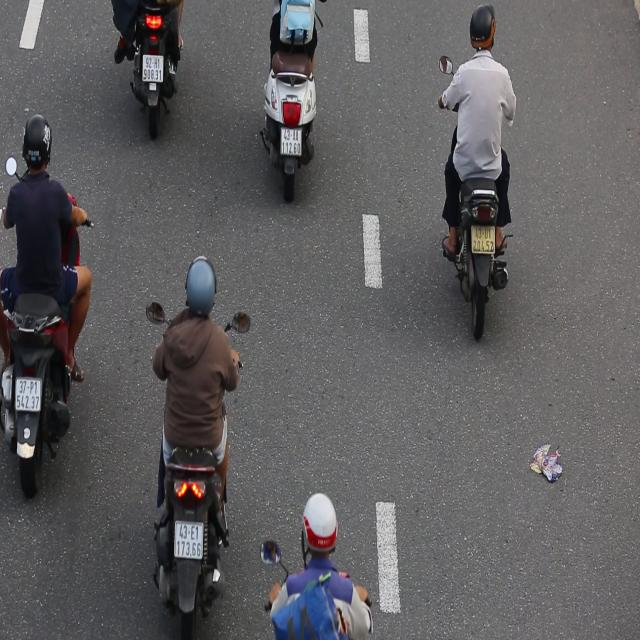motorbike: (139, 243, 251, 629), (0, 98, 98, 506), (435, 1, 522, 357)
